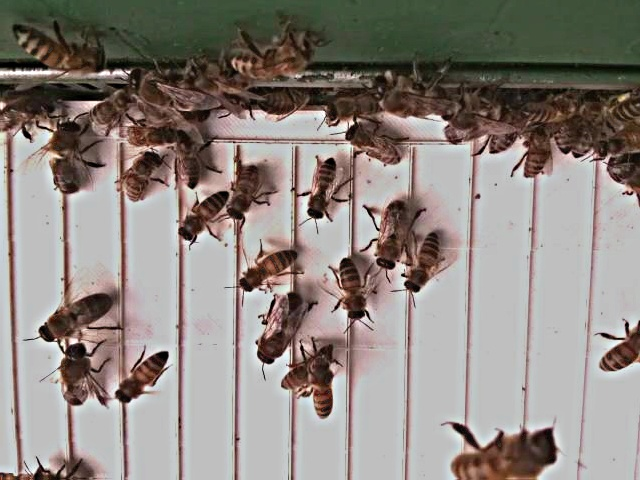Drone: (36, 293, 114, 345), (254, 293, 304, 367), (48, 117, 88, 197), (374, 200, 410, 274), (58, 342, 94, 410)
Worker: (111, 350, 168, 408), (236, 250, 300, 294), (175, 192, 227, 244), (280, 346, 335, 395), (403, 230, 441, 298), (343, 126, 402, 169), (122, 151, 165, 207), (334, 257, 365, 323), (225, 166, 260, 224), (596, 330, 640, 375), (305, 161, 336, 222), (521, 122, 550, 183), (121, 123, 180, 152), (172, 135, 201, 192), (309, 361, 333, 423)
